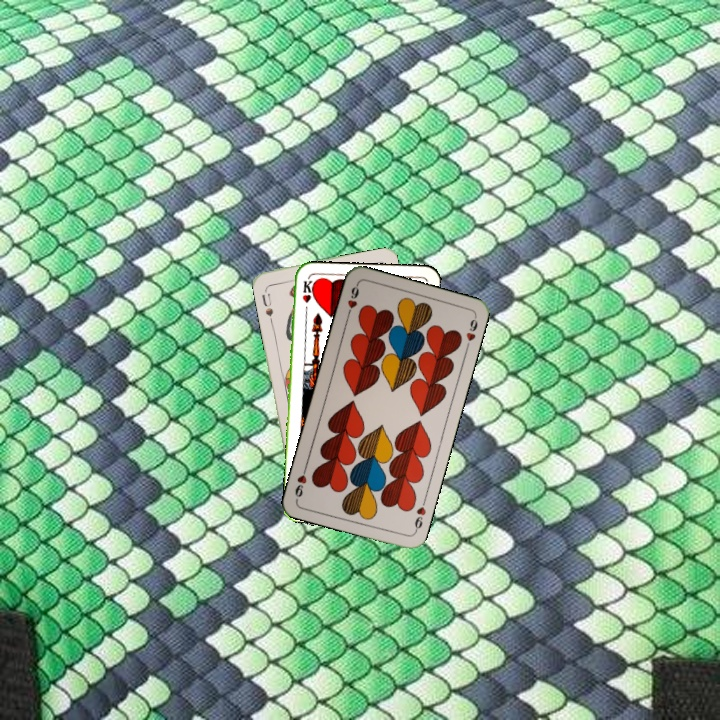H9: (343, 280, 362, 320), (410, 495, 429, 535)
HK: (298, 276, 314, 317)
SU: (258, 290, 276, 324)
